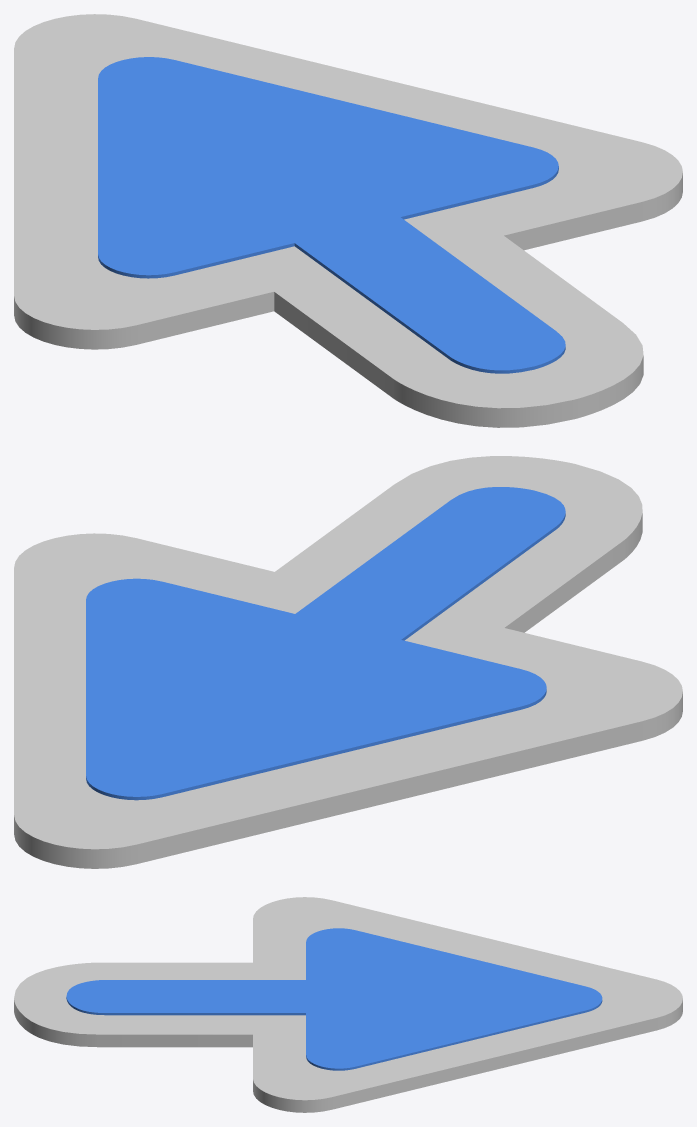
File: arrow.glb
3 views of the same model, one above another, from view 1: azimuth 30°, elevation 25°; view 2: azimuth 150°, elevation 25°; view 3: azimuth 270°, elevation 25° (orthographic). The views are drawn at different scales.
Parts seen in each view (by area): view 1: Curve, Curve.003, Curve.001, Curve.002; view 2: Curve, Curve.003, Curve.001, Curve.002; view 3: Curve, Curve.003, Curve.001, Curve.002.
Boxes of the visible parts, x1,y1,x2,y2 form: Curve: [14, 14, 682, 349]; Curve.003: [98, 57, 558, 278]; Curve.001: [234, 234, 643, 427]; Curve.002: [267, 191, 565, 373]; Curve: [14, 533, 682, 868]; Curve.003: [86, 578, 546, 800]; Curve.001: [245, 456, 642, 649]; Curve.002: [271, 487, 565, 665]; Curve: [253, 897, 682, 1112]; Curve.003: [306, 928, 602, 1070]; Curve.001: [14, 962, 305, 1047]; Curve.002: [66, 980, 367, 1015].
Bounding box in the file's own units: 0.2074 × 0.00802 × 0.2887.
